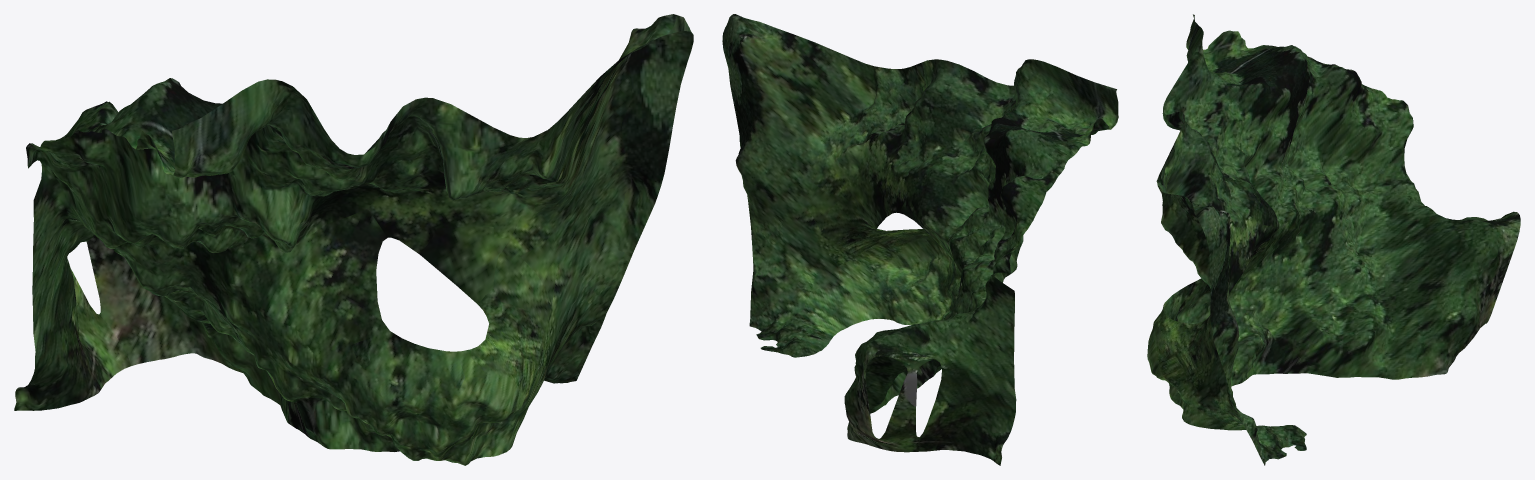
Rendered from Tile_+025_+012.fbx.
3 views of the same model, side by side, from view 1: azimuth 30°, elevation 25°; view 2: azimuth 150°, elevation 25°; view 3: azimuth 270°, elevation 25° (orthographic). The views are drawn at different scales.
Parts seen in each view (by area): view 1: DefaultName; view 2: DefaultName; view 3: DefaultName.
Boxes of the visible parts, bbox=[...] form: DefaultName: bbox=[14, 14, 693, 465]; DefaultName: bbox=[722, 14, 1118, 465]; DefaultName: bbox=[1147, 14, 1520, 465].
Size of the model in its own units: 13.49 by 10.18 by 11.27.
